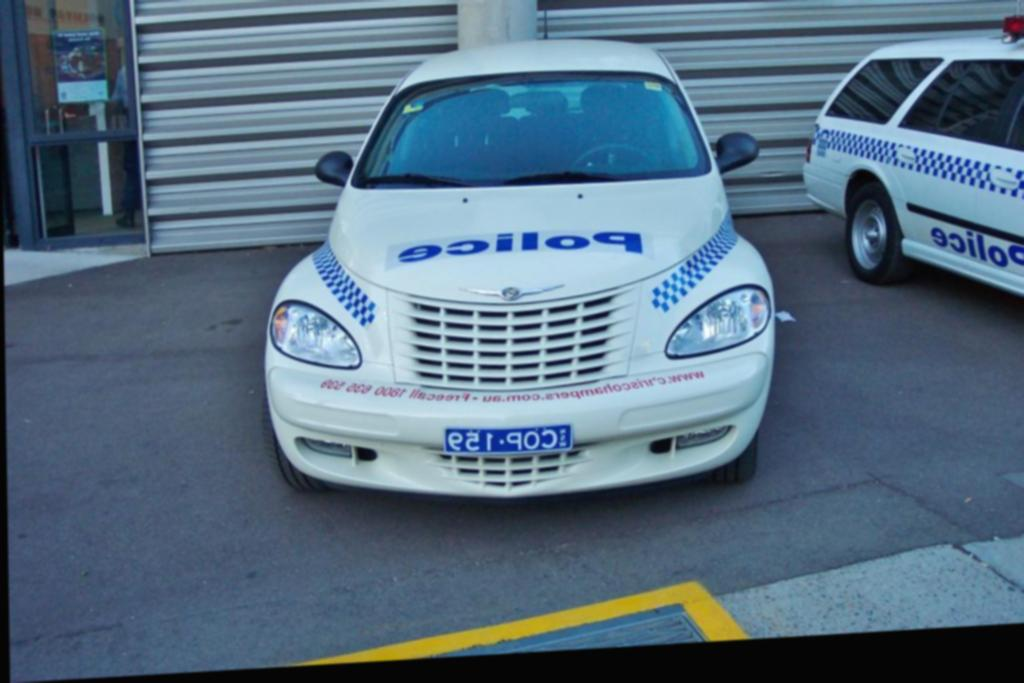License_Plate: (445, 417, 571, 457)
